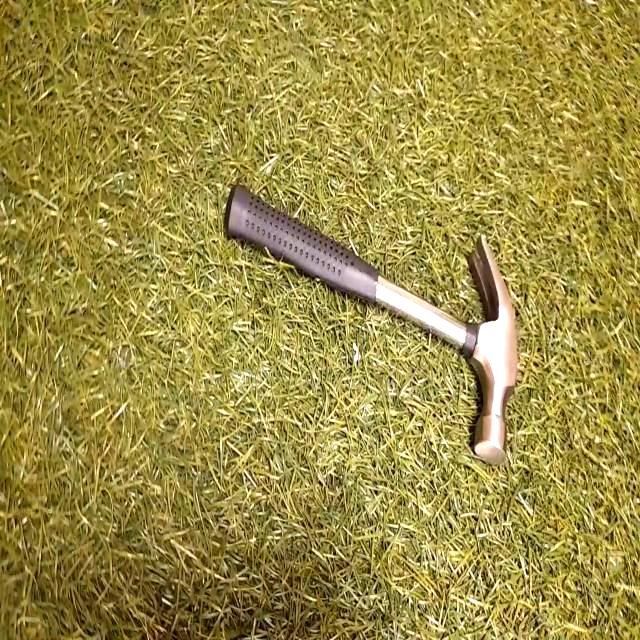hammer: (225, 185, 511, 468)
